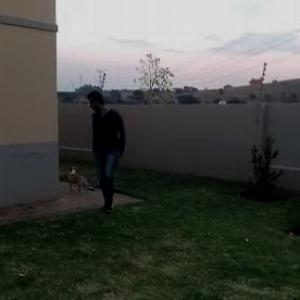follow: (85, 85, 125, 220)
